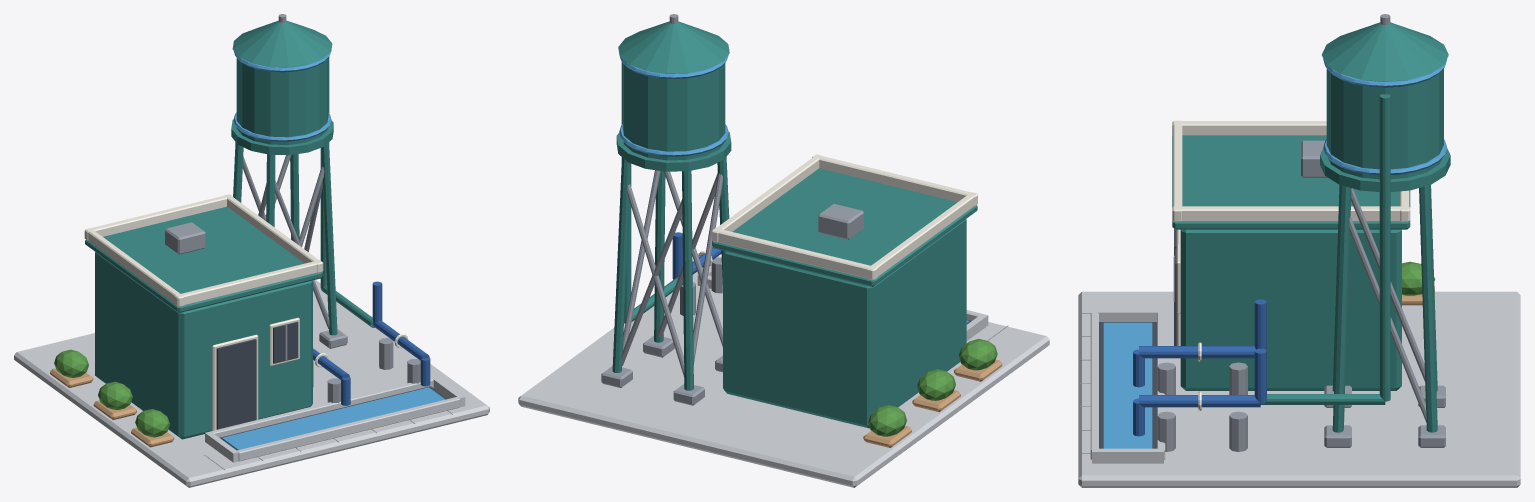
The model's file is water.glb.
The picture shows the model from 3 angles, left to right: view 1: azimuth 30°, elevation 25°; view 2: azimuth 150°, elevation 25°; view 3: azimuth 270°, elevation 25°; orthographic projection. The views are drawn at different scales.
Parts seen in each view (by area): view 1: water; view 2: water; view 3: water.
Boxes of the visible parts, x1,y1,x2,y2 form: water: [14, 14, 489, 487]; water: [518, 14, 1049, 487]; water: [1078, 14, 1520, 487].
Size of the model in its own units: 8 by 8.37 by 8.
1 material, 1 textured.
